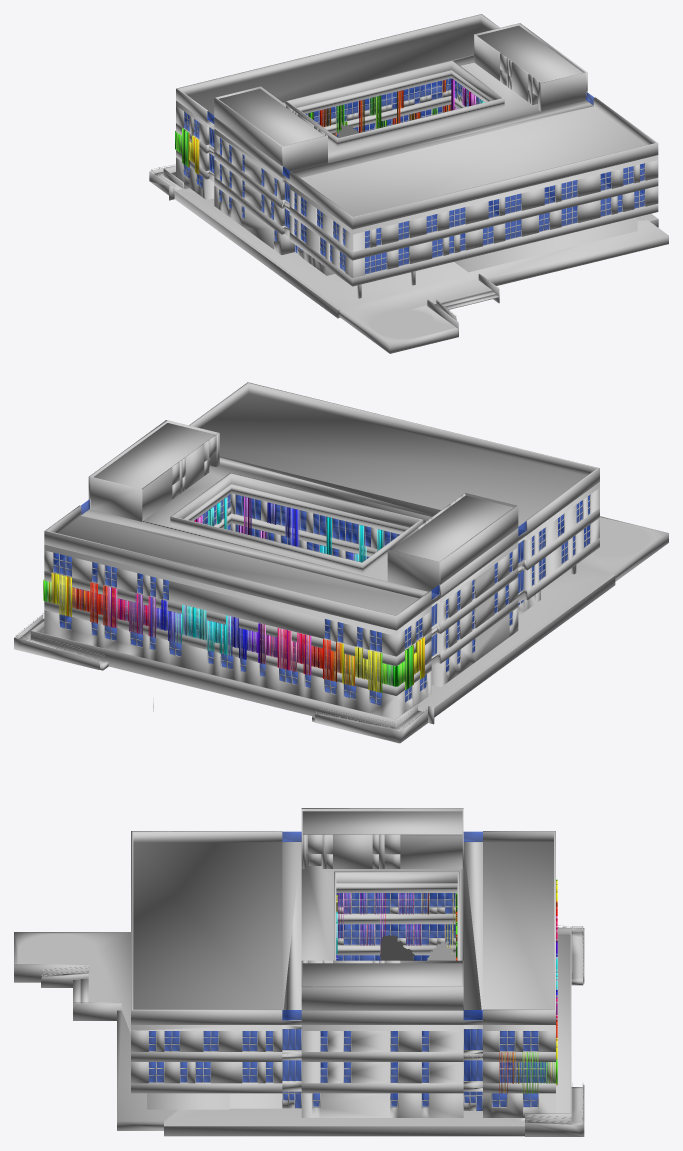
The model's file is et20optimizada.glb.
3 renders of one model, top to bottom at view 1: azimuth 30°, elevation 25°; view 2: azimuth 150°, elevation 25°; view 3: azimuth 270°, elevation 25°, orthographic. The views are drawn at different scales.
Parts seen in each view (by area): view 1: G-Object.7326, _G-Object.4391_(Loose_Mesh), G-Object.8227, _G-Object.5363_(Loose_Mesh), _G-Object.3117_(Loose_Mesh), _G-Object.3125_(Loose_Mesh), G-Object.7338, G-Object.7332, _G-Object.3112_(Loose_Mesh), _G-Object.3178_(Loose_Mesh), _G-Object.3181_(Loose_Mesh), G-Object.7325 (+7 smaller); view 2: G-Object.7326, _G-Object.4391_(Loose_Mesh), _G-Object.3181_(Loose_Mesh), G-Object.8227, G-Object.8434, _G-Object.5363_(Loose_Mesh), _G-Object.3117_(Loose_Mesh), _G-Object.3125_(Loose_Mesh), G-Object.7332, G-Object.7338, _G-Object.3112_(Loose_Mesh), G-Object.8221 (+11 smaller); view 3: G-Object.7326, _G-Object.4391_(Loose_Mesh), _G-Object.5363_(Loose_Mesh), G-Object.8227, _G-Object.3125_(Loose_Mesh), G-Object.7379, G-Object.7332, G-Object.7338, _G-Object.3117_(Loose_Mesh), _G-Object.5334_(Loose_Mesh), _G-Object.4098_(Loose_Mesh), _G-Object.3112_(Loose_Mesh) (+20 smaller).
Boxes of the visible parts, x1,y1,x2,y2 form: G-Object.7326: (176,14,658,229); _G-Object.4391_(Loose_Mesh): (171,172,668,353); G-Object.8227: (176,83,658,260); _G-Object.5363_(Loose_Mesh): (176,150,658,286); _G-Object.3117_(Loose_Mesh): (214,86,327,173); _G-Object.3125_(Loose_Mesh): (474,23,587,111); G-Object.7338: (477,25,583,82); G-Object.7332: (219,89,324,145); _G-Object.3112_(Loose_Mesh): (176,101,658,234); _G-Object.3178_(Loose_Mesh): (454,217,637,272); _G-Object.3181_(Loose_Mesh): (176,157,334,275); G-Object.7325: (297,70,492,113); G-Object.7326: (44,382,599,630); _G-Object.4391_(Loose_Mesh): (39,516,668,717); _G-Object.3181_(Loose_Mesh): (44,590,540,719); G-Object.8227: (44,495,599,665); G-Object.8434: (30,621,417,728); _G-Object.5363_(Loose_Mesh): (44,525,599,695); _G-Object.3117_(Loose_Mesh): (387,493,518,593); _G-Object.3125_(Loose_Mesh): (88,420,219,521); G-Object.7332: (391,495,513,561); G-Object.7338: (93,423,215,488); _G-Object.3112_(Loose_Mesh): (44,482,599,636); G-Object.8221: (169,581,324,638); G-Object.7326: (131,831,555,1024); _G-Object.4391_(Loose_Mesh): (14,932,570,1136); _G-Object.5363_(Loose_Mesh): (131,924,555,1093); G-Object.8227: (131,893,555,1061); _G-Object.3125_(Loose_Mesh): (301,960,463,1010); G-Object.7379: (301,1093,463,1117); G-Object.7332: (302,811,462,834); G-Object.7338: (302,963,462,986); _G-Object.3117_(Loose_Mesh): (301,808,463,868); _G-Object.5334_(Loose_Mesh): (301,1062,463,1083); _G-Object.4098_(Loose_Mesh): (301,1031,463,1051); _G-Object.3112_(Loose_Mesh): (131,1025,555,1030).
Bounding box in the file's own units: 413 × 97.88 × 409.
